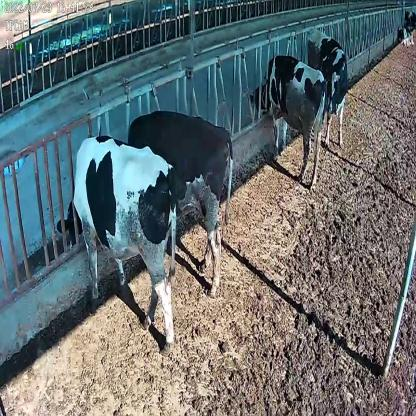cow: (57, 132, 177, 354), (127, 110, 233, 298), (250, 52, 326, 184), (305, 27, 348, 149)
